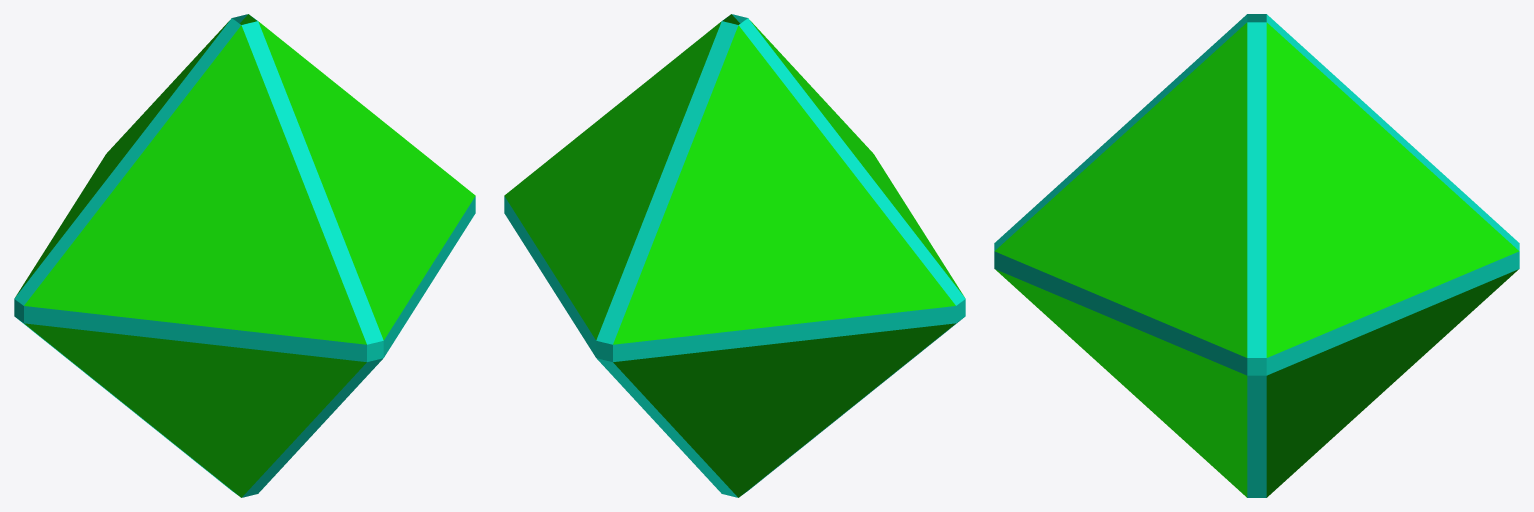
File: ParticleDiamond.fbx
3 views of the same model, side by side, from view 1: azimuth 30°, elevation 25°; view 2: azimuth 150°, elevation 25°; view 3: azimuth 270°, elevation 25° (orthographic).
Visible parts, largest first — view 1: Cube.001, Cube.002; view 2: Cube.001, Cube.002; view 3: Cube.001, Cube.002.
Boxes of the visible parts, x1,y1,x2,y2 form: Cube.001: (15,14,475,497); Cube.002: (14,14,475,497); Cube.001: (504,14,964,497); Cube.002: (504,14,965,497); Cube.001: (995,22,1518,497); Cube.002: (994,14,1519,497).
Bounding box in the file's own units: 200 × 200 × 200.
